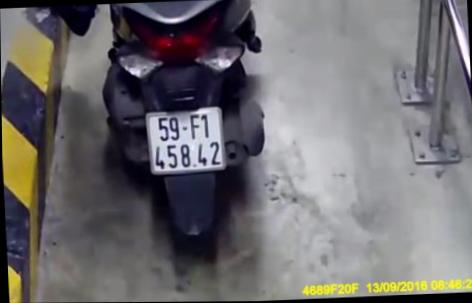LP: (145, 107, 228, 174)
